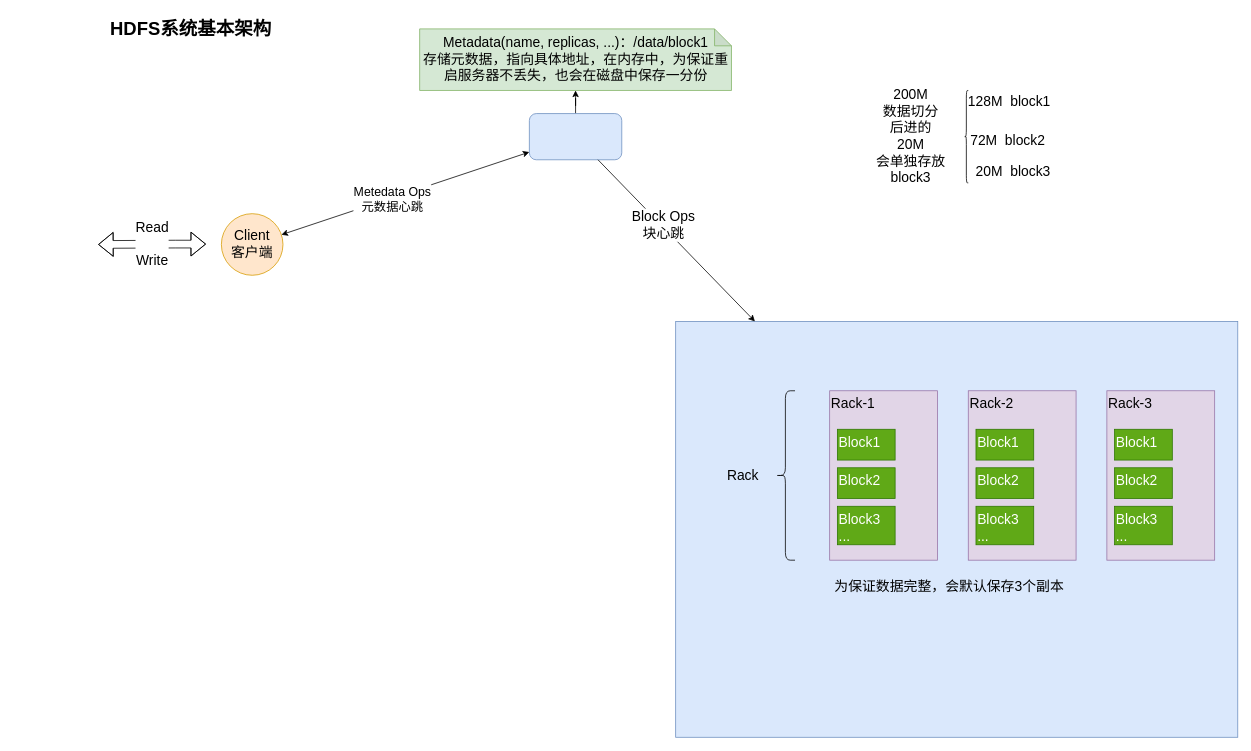
This 1251x751 diagram has some shape labels left out. Here are the shapes that lost their labels. From the top down, the box of each, then its label:
(529, 113, 622, 160): NameNode 名称节点
(675, 321, 1238, 737): Datanodes 数据节点，磁盘存储
